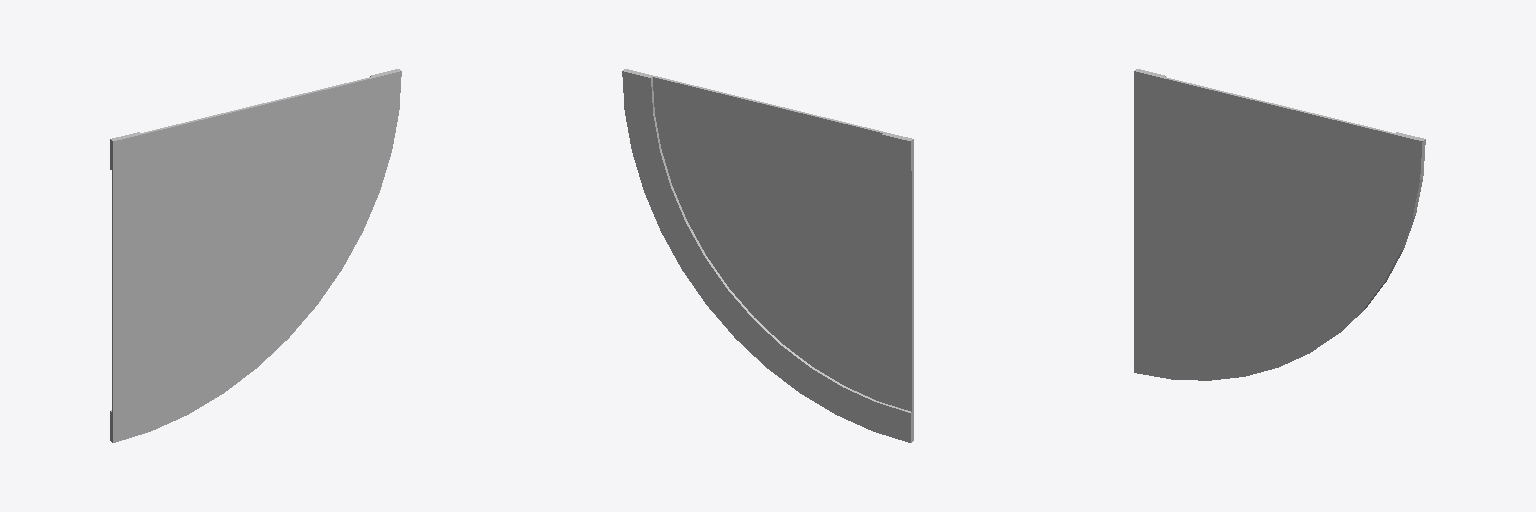
The model's file is road-bend.obj.
The picture shows the model from 3 angles: view 1: azimuth 30°, elevation 25°; view 2: azimuth 150°, elevation 25°; view 3: azimuth 330°, elevation 25°; orthographic projection.
Parts seen in each view (by area): view 1: road-bend.001; view 2: road-bend.001; view 3: road-bend.001.
Part boxes in pixels (x1,y1,x2,y2): road-bend.001: (110,69,401,442); road-bend.001: (622,69,913,442); road-bend.001: (1134,69,1425,380).
Bounding box in the file's own units: 1 × 1 × 0.02.